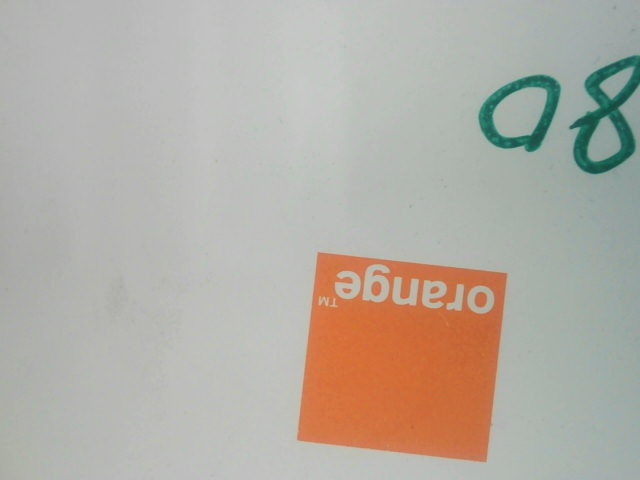AR_Orange: (282, 243, 512, 468)
